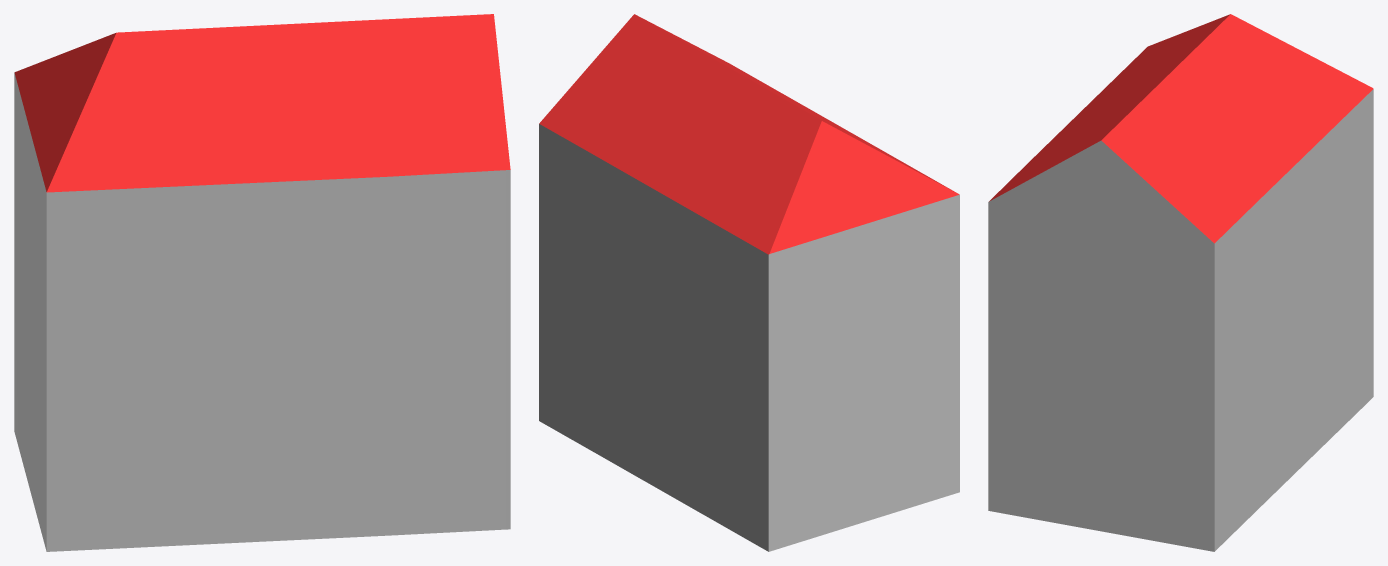
Rendered from DEBY_LOD2_4907040.dae.
3 views of the same model, side by side, from view 1: azimuth 30°, elevation 25°; view 2: azimuth 150°, elevation 25°; view 3: azimuth 270°, elevation 25° (orthographic). The views are drawn at different scales.
Bounding box in the file's own units: 20.84 × 17.26 × 19.32.
